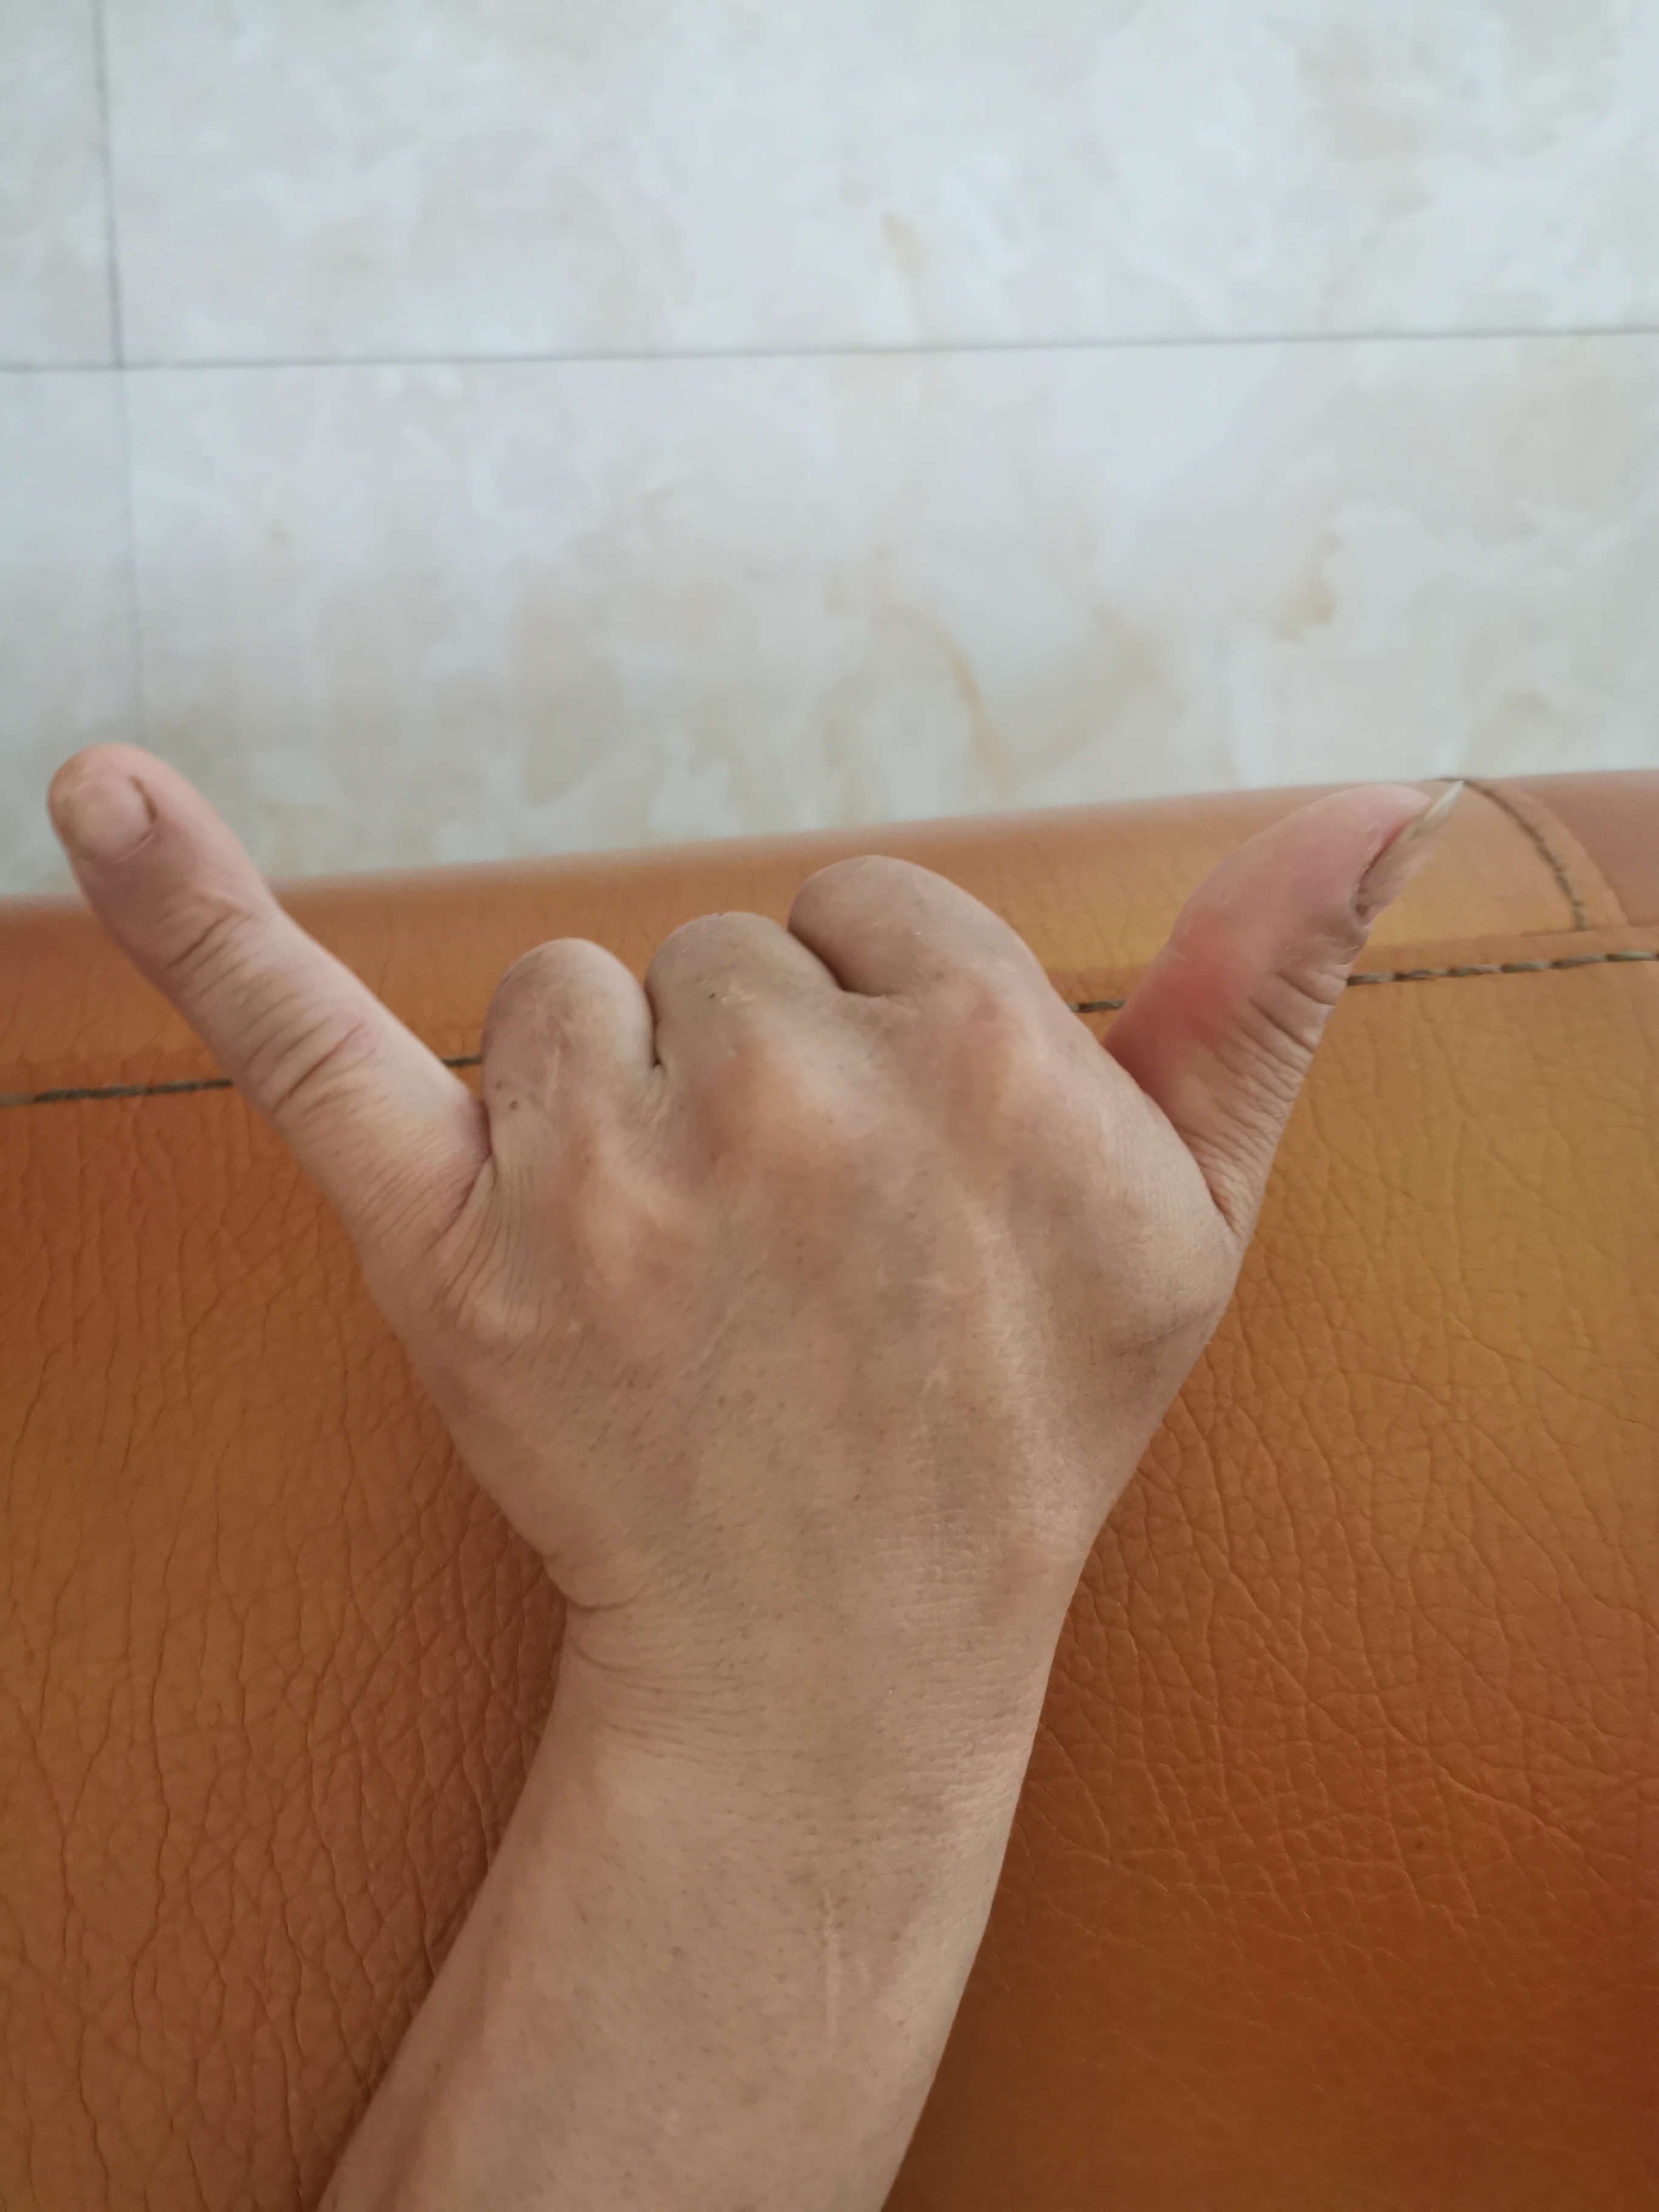clockwise: (40, 721, 1481, 1658)
